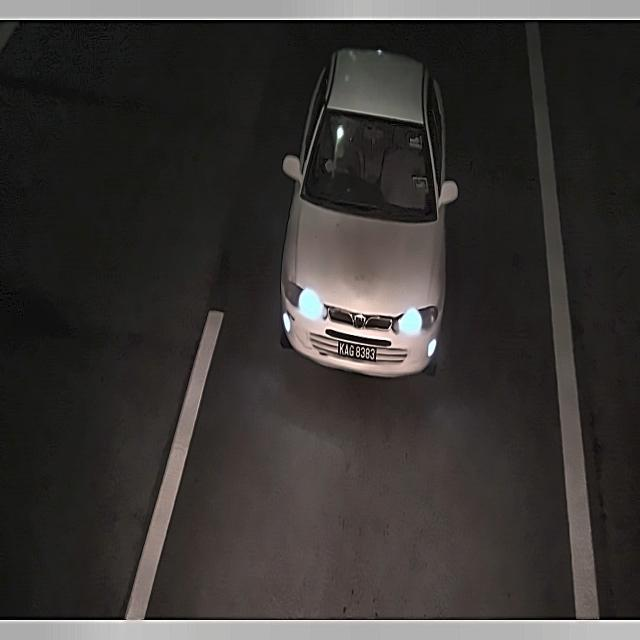car: (333, 332, 381, 365)
